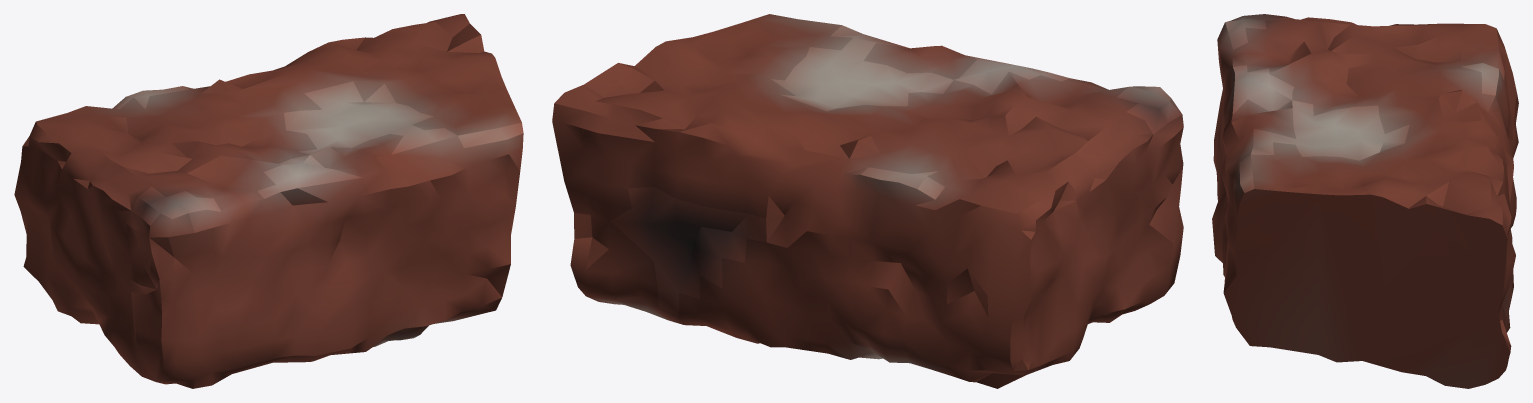
File: ember_brick_chunk_c.glb
3 views of the same model, side by side, from view 1: azimuth 30°, elevation 25°; view 2: azimuth 150°, elevation 25°; view 3: azimuth 270°, elevation 25° (orthographic). The views are drawn at different scales.
Parts seen in each view (by area): view 1: ember_brick_chunk_c; view 2: ember_brick_chunk_c; view 3: ember_brick_chunk_c.
Part boxes in pixels (bbox=[...]): ember_brick_chunk_c: bbox=[14, 14, 523, 388]; ember_brick_chunk_c: bbox=[552, 14, 1183, 388]; ember_brick_chunk_c: bbox=[1212, 14, 1518, 388].
Size of the model in its own units: 8.45 by 3.74 by 5.23.
